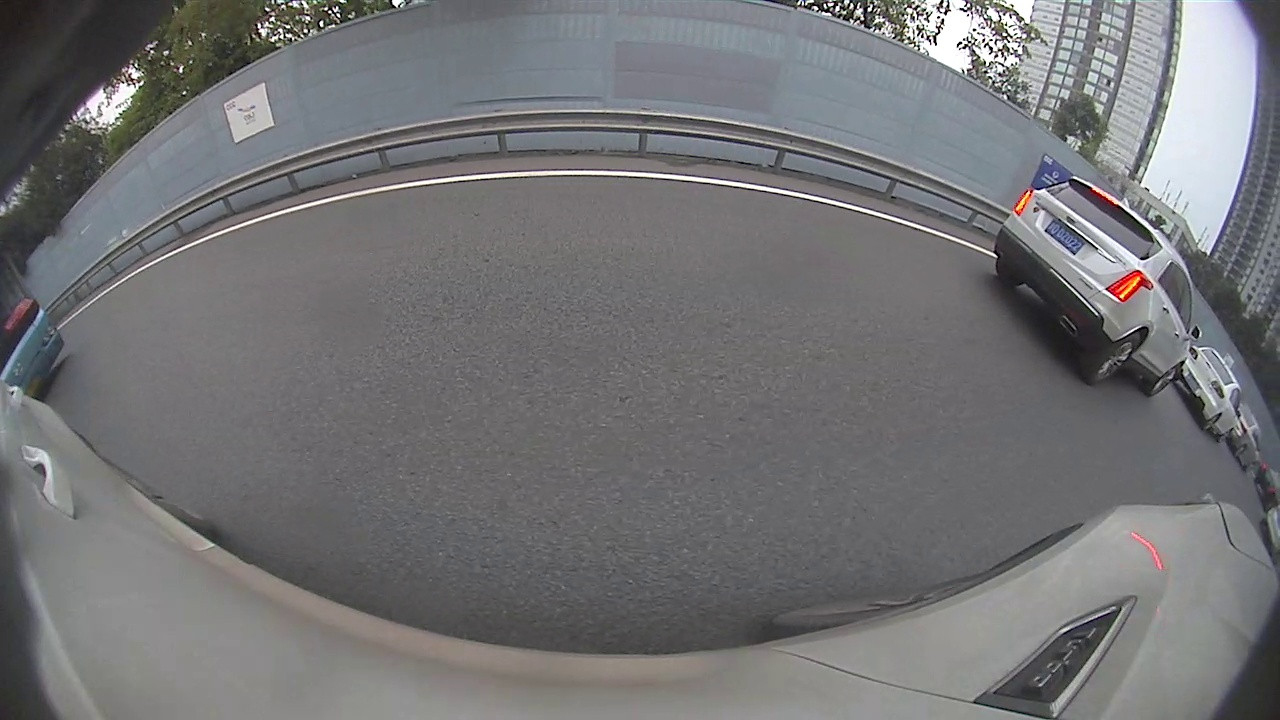bus: (1, 230, 70, 397)
car: (993, 177, 1196, 396), (1180, 346, 1244, 440)
front: (1143, 362, 1182, 397), (1217, 428, 1234, 445)
rear: (1079, 331, 1147, 385), (1202, 414, 1221, 432)
